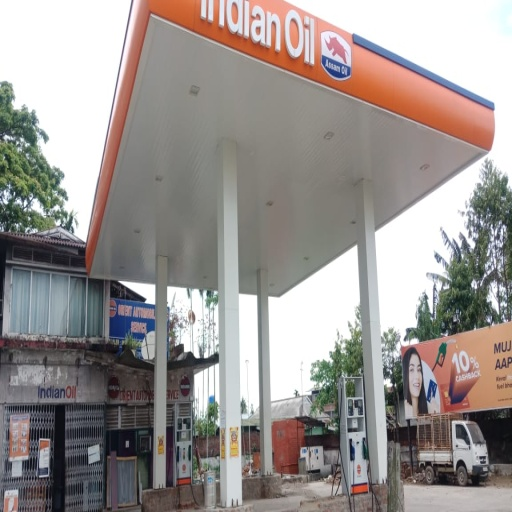roof: (89, 1, 494, 278)
